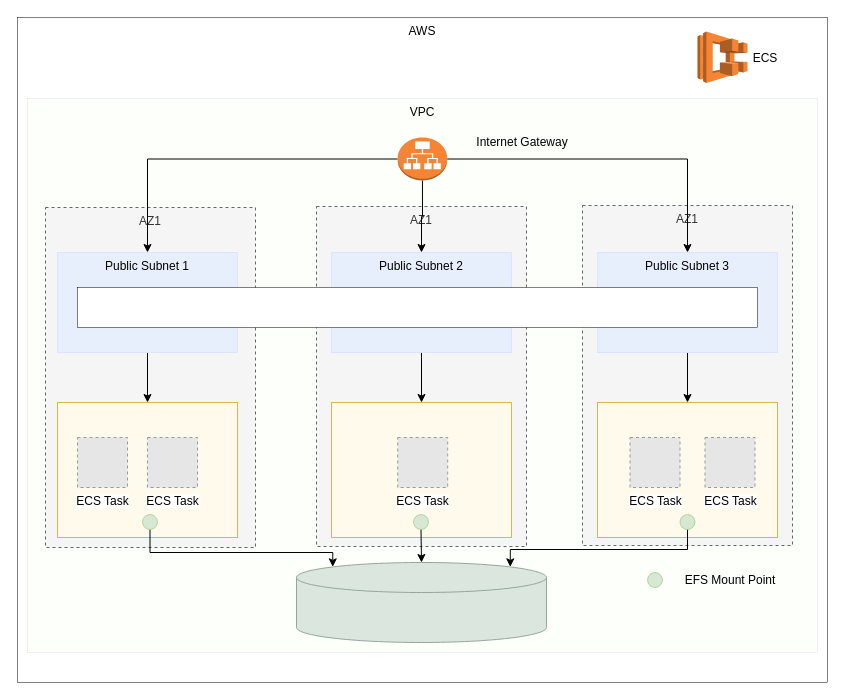
The diagram is 845 pixels wide and 700 high, and some of its shapes have lost their labels. Grey dashed boxes stand in for pictures. The shapes that lost their labels are listed below. From the top down, each one's box as (x1, y1, x2, y2) in pixels, then its label:
(77, 287, 757, 327): Application Load Balancer
(56, 402, 238, 538): Private Subnet 1
(330, 402, 512, 538): Private Subnet 2
(596, 402, 778, 538): Private Subnet 3
(296, 562, 546, 642): EFS
